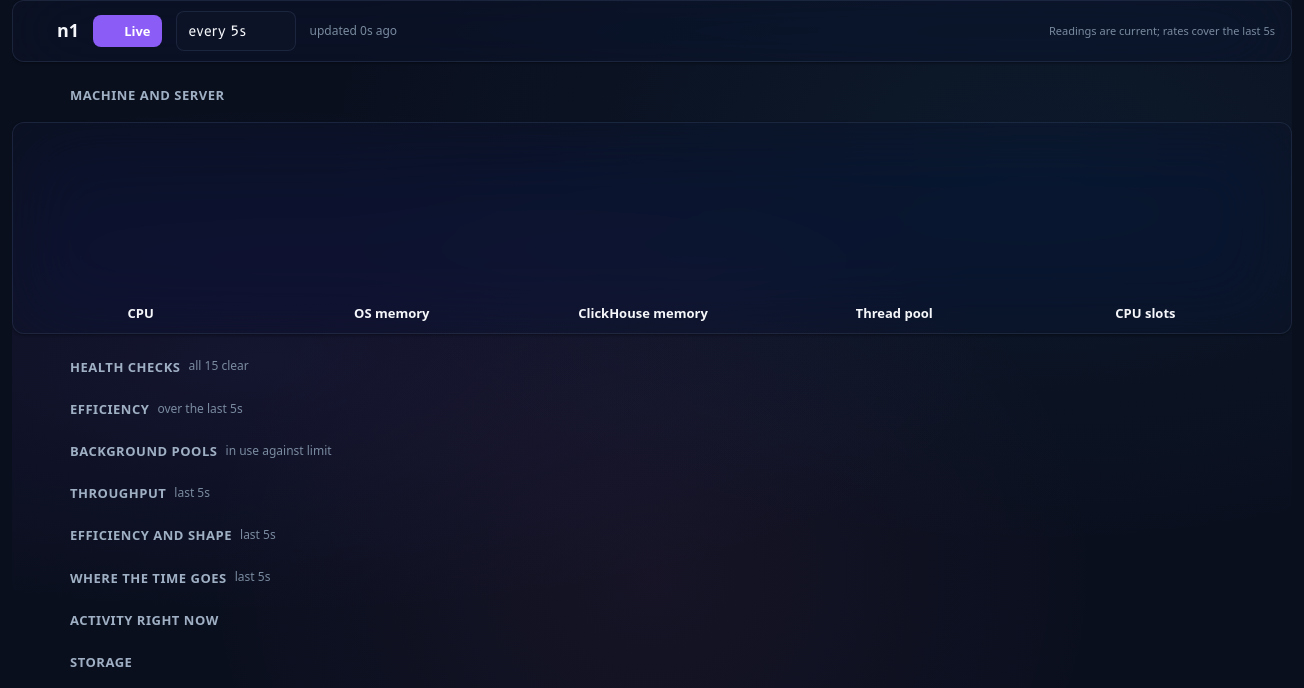
Test case: LiveOverview: the two sample rule › shows a dash rather than zero for a rate on the first reading
Click the text "Throughput": coordinates (118, 493) [70,484,166,502]
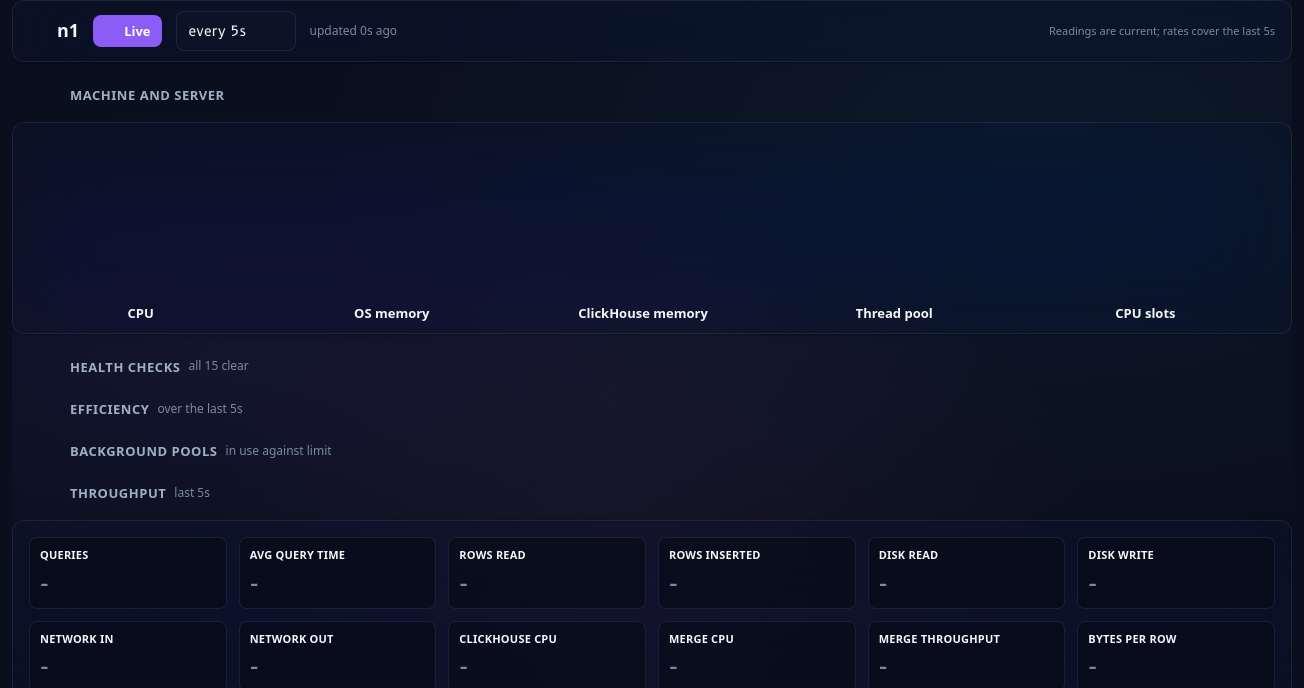
Result: the text "-" below "Queries" is shown at [40,570,49,594]
